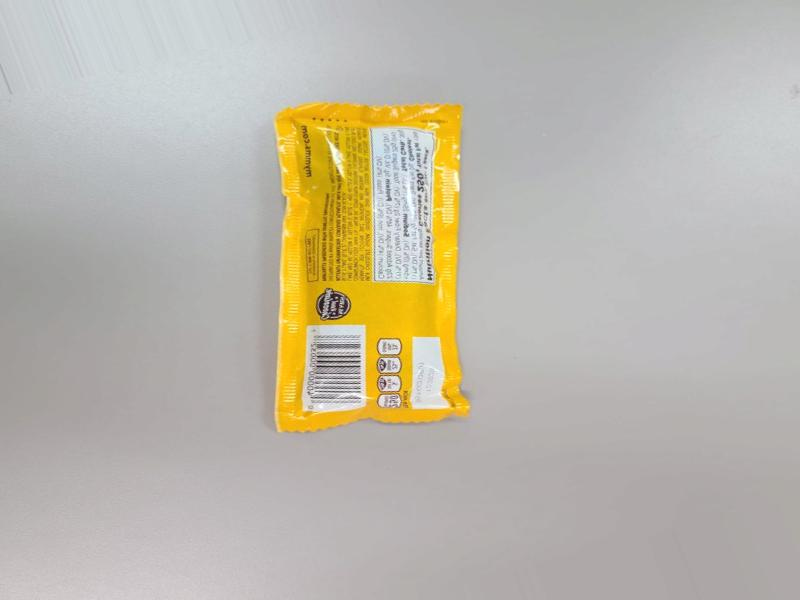m&m: (282, 90, 465, 416)
